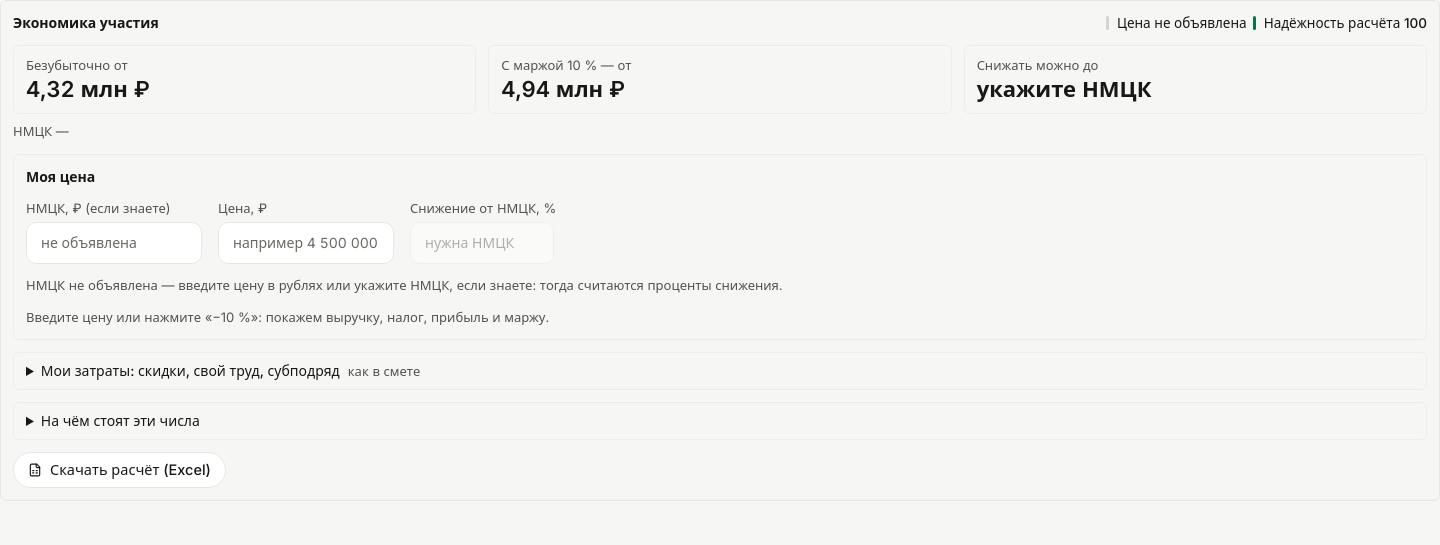
Scenario: «Моя цена» › НМЦК не объявлена: цена в рублях считается, поле процентов закрыто
This screenshot has width=1440, height=545.
Expected: the field labelled "Снижение от НМЦК, %" is disabled, [410,222,554,264]
Type "4800000" into the field named "Моя цена, ₽". click: coordinates (306, 243)
box: [218,222,394,264]
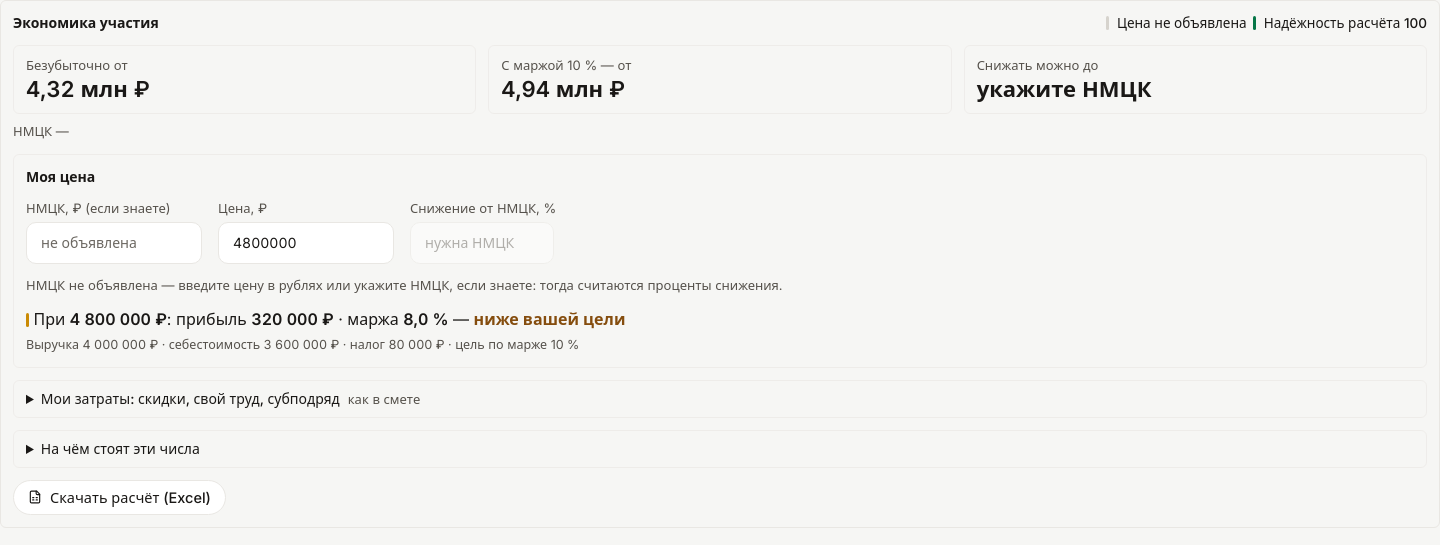
Expected: the element with test id "my-price-result" is shown, [26,309,625,352]
